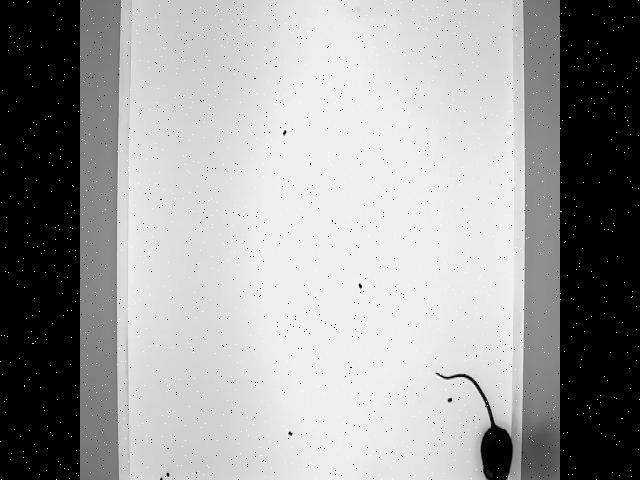Tikus: (430, 366, 514, 480)
